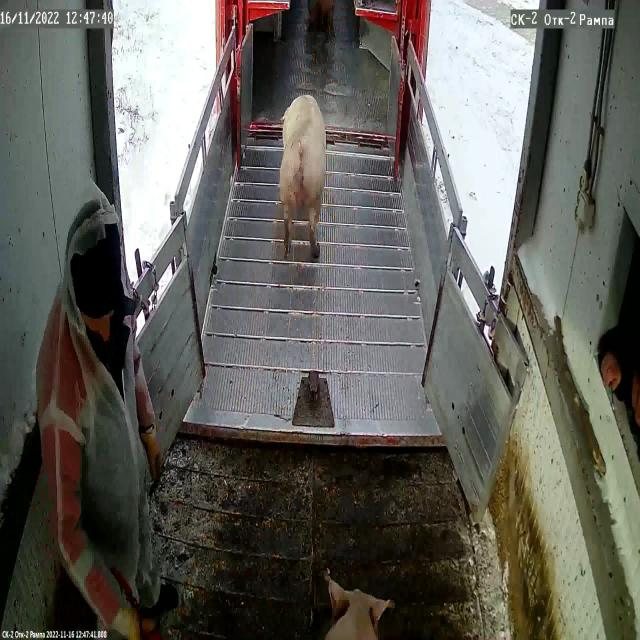pig: (280, 95, 326, 256), (325, 581, 394, 640)
